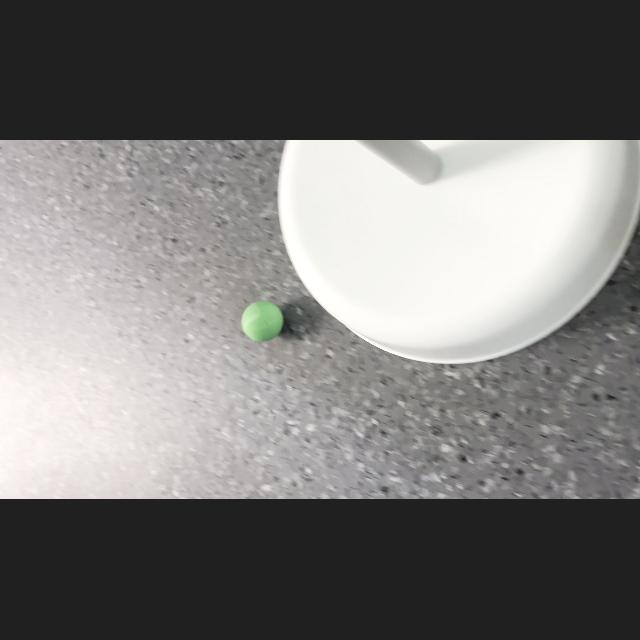objects: (237, 298, 287, 347)
